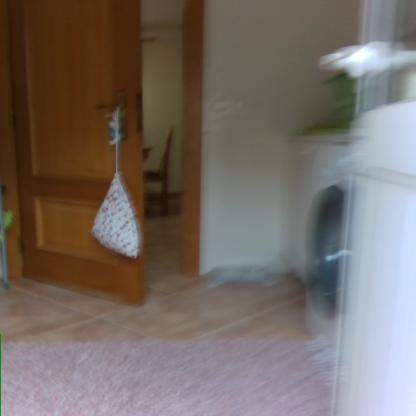semi: (0, 2, 234, 296)
